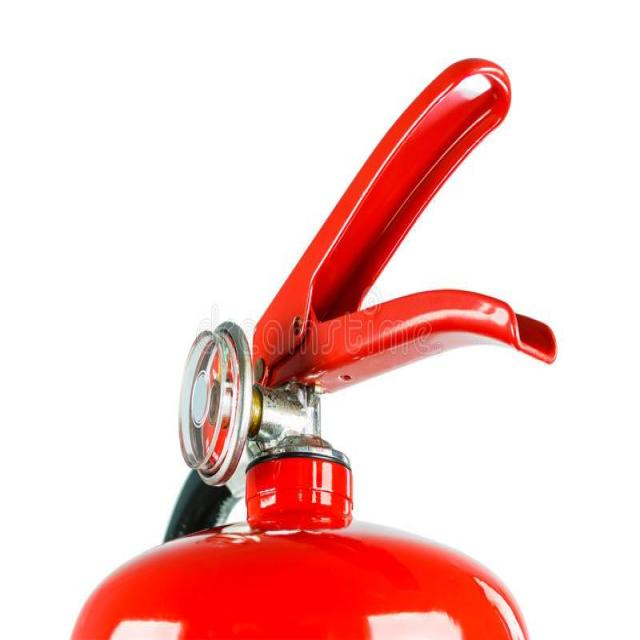fire_extinguisher: (58, 53, 560, 639)
